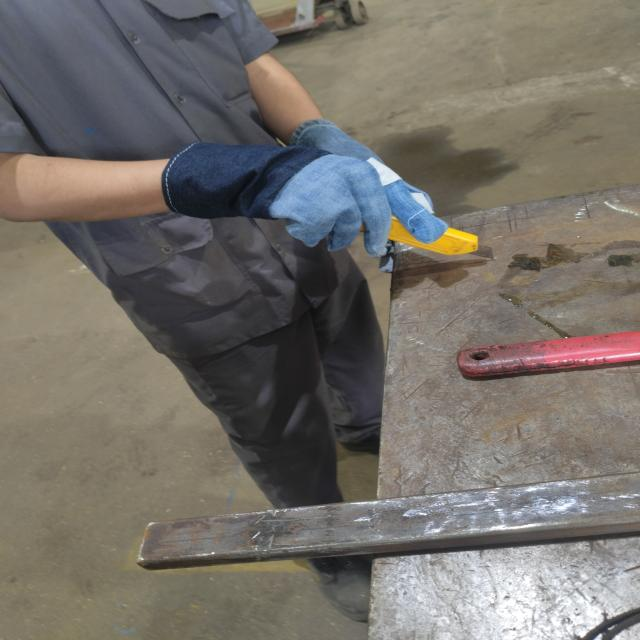Gloves-Detection: (188, 131, 435, 252)
